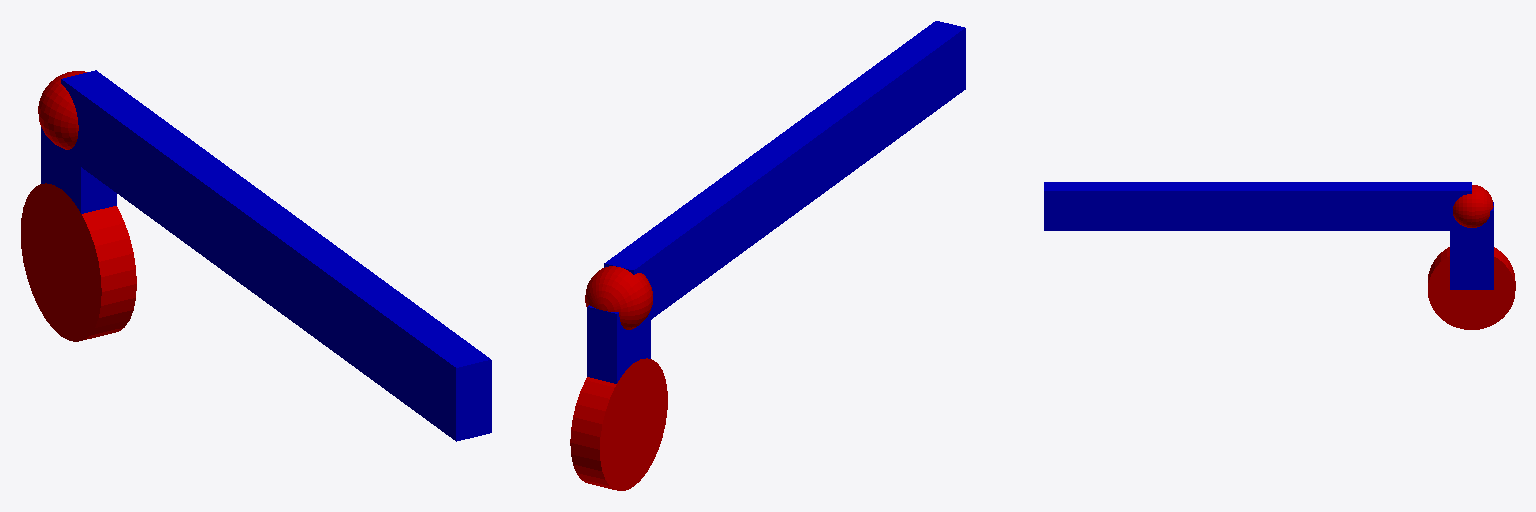
robot.urdf — TwoLinkStruct8062072140:
<?xml version="1.0"?>
<robot  name="TwoLinkStruct8062072140" >
 <material  name="blue" >
  <color  rgba="0 0 0.8 1.0" />
 </material>
 <material  name="red" >
  <color  rgba="0.8 0 0 1.0" />
 </material>
 <link  name="base_link" >
  <visual >
   <origin  rpy="0 1.5707 0"  xyz="0 0 0" />
   <material  name="red" />
   <geometry >
    <cylinder  length="0.05"  radius="0.1" />
   </geometry>
  </visual>
 </link>
 <joint  type="revolute"  name="joint1" >
  <parent  link="base_link" />
  <child  link="link1" />
  <origin  xyz="0 0 0"  rpy="0 0 0" />
  <axis  xyz="1 0 0" />
 </joint>
 <link  name="link1" >
  <inertial >
   <origin  rpy="0 0 0"  xyz="0 0 0.09984228301362254" />
   <mass  value="0.43050695465387573" />
   <inertia  ixy="0.0"  iyy="0.00017937789777244822"  izz="0.0015201891500019294"  ixz="0.0"  ixx="0.0015201891500019294"  iyz="0.0" />
  </inertial>
  <visual >
   <origin  rpy="0 0 0"  xyz="0 0 0.09984228301362254" />
   <material  name="blue" />
   <geometry >
    <box  size="0.05 0.1 0.19968456602724508" />
   </geometry>
  </visual>
 </link>
 <joint  type="fixed"  name="joint-joint-1" >
  <parent  link="link1" />
  <child  link="joint-link-1" />
  <origin  xyz="0 0 0.19968456602724508"  rpy="1.5707 0 0" />
  <axis  xyz="1 0 0" />
 </joint>
 <link  name="joint-link-1" >
  <inertial >
   <origin  rpy="0 0 0"  xyz="0 0 0" />
   <mass  value="1.8391826328018228" />
   <inertia  ixy="0"  iyy="0"  izz="0"  ixz="0"  ixx="0"  iyz="0" />
  </inertial>
  <visual >
   <origin  rpy="0 0 0"  xyz="0 0 0" />
   <material  name="red" />
   <geometry >
    <sphere  radius="0.05" />
   </geometry>
  </visual>
 </link>
 <joint  type="revolute"  name="joint2" >
  <parent  link="link1" />
  <child  link="link2" />
  <origin  xyz="0 0 0.19968456602724508"  rpy="1.5707 0 0" />
  <axis  xyz="1 0 0" />
 </joint>
 <link  name="link2" >
  <inertial >
   <origin  rpy="0 0 0"  xyz="0 0 0.48655194225455783" />
   <mass  value="3.7645915752826467" />
   <inertia  ixy="0.0"  iyy="0.00017937789777244822"  izz="0.034061393472523654"  ixz="0.0"  ixx="0.034061393472523654"  iyz="0.0" />
  </inertial>
  <visual >
   <origin  rpy="0 0 0"  xyz="0 0 0.48655194225455783" />
   <material  name="blue" />
   <geometry >
    <box  size="0.05 0.1 0.9731038845091157" />
   </geometry>
  </visual>
 </link>
 <joint  type="fixed"  name="eef_joint" >
  <parent  link="link2" />
  <child  link="eef" />
  <origin  xyz="0 0 0.9731038845091157"  rpy="0 0 0" />
 </joint>
 <link  name="eef" >
  <inertial >
   <origin  rpy="0 0 0"  xyz="0 0 0" />
   <mass  value="1" />
   <inertia  ixy="0"  iyy="0"  izz="0"  ixz="0"  ixx="0"  iyz="0" />
  </inertial>
 </link>
 <transmission  name="motor1" >
  <type  xmltext="SimpleTransmission" >
   SimpleTransmission
  </type>
  <actuator  name="motor1" >
   <mechanicalreduction  xmltext="1" >
    1
   </mechanicalreduction>
  </actuator>
  <joint  name="joint1" />
 </transmission>
 <transmission  name="motor2" >
  <type  xmltext="SimpleTransmission" >
   SimpleTransmission
  </type>
  <actuator  name="motor2" >
   <mechanicalreduction  xmltext="1" >
    1
   </mechanicalreduction>
  </actuator>
  <joint  name="joint2" />
 </transmission>
</robot>

<!-- {'carti': array([-0.1 ,  0.14,  0.85]), 'cartd': array([-0.1 ,  0.32,  1.29]), 'tau_mu': 0.33820347694310504, 'b0': 0.02831091216092622, 'Km': 4.357837372081567, 'k_velocity': 11.289394641929157, 'tau_max_m': 1.6059906452941586, 'omega_max_m': 1107.7913079115167, 'gear_ratio': 16.577045358963623, 'Kp': 54.09652313396189, 'Kd': 9.404775394319579, 'm_m': 1.8391826328018228, 'l1': 0.19968456602724508, 'l2': 0.9731038845091157, 'k1': 29842.45168985755, 'k2': 195180975.39090198, 'k3': 314564882.35363543}-->

--- Facts derived from the render (not from the file) ---
Views: 3 orthographic renders of the robot side by side, from view 1: azimuth 30°, elevation 25°; view 2: azimuth 150°, elevation 25°; view 3: azimuth 270°, elevation 25°.
Robot: TwoLinkStruct8062072140 — 5 links, 4 joints (2 revolute, 2 fixed); root link base_link; default pose: all joints at 0.
Links seen in each view (by area): view 1: link2, base_link, link1, joint-link-1; view 2: link2, base_link, link1, joint-link-1; view 3: link2, base_link, link1, joint-link-1.
Boxes of the visible links, <box> form: link2: <box>61,70,491,441</box>; base_link: <box>21,183,136,341</box>; link1: <box>41,127,116,213</box>; joint-link-1: <box>38,71,86,149</box>; link2: <box>604,21,965,329</box>; base_link: <box>570,358,667,490</box>; link1: <box>587,305,650,383</box>; joint-link-1: <box>585,266,652,329</box>; link2: <box>1044,182,1471,230</box>; base_link: <box>1428,247,1515,329</box>; link1: <box>1450,202,1493,289</box>; joint-link-1: <box>1453,185,1493,227</box>.
Bounding box of the posed robot: 0.1 × 1.07 × 0.3498 m (x, y, z).
Geometry: primitives only (box / cylinder / sphere), no mesh files.
